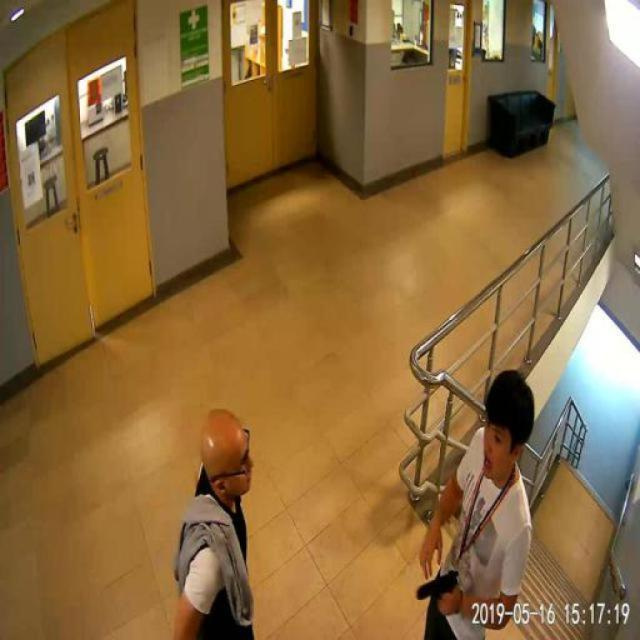pistol: (415, 568, 456, 614)
